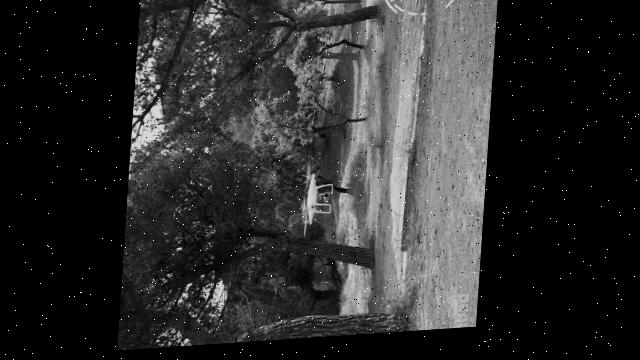drone: (300, 162, 339, 248)
